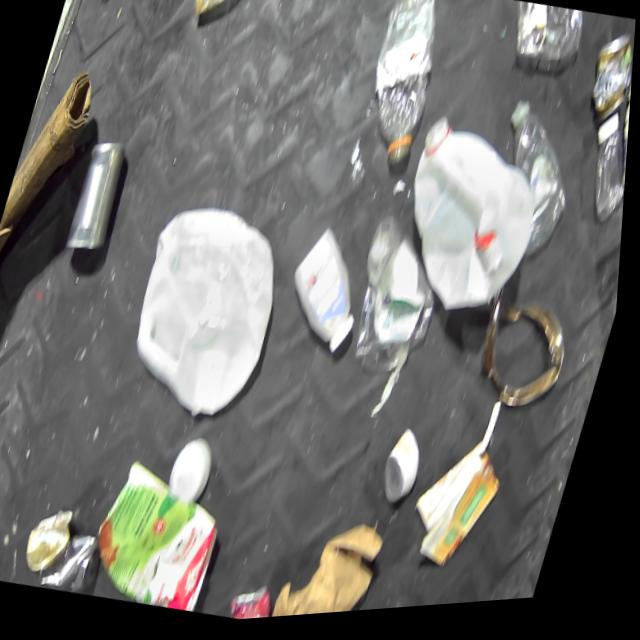can: (62, 137, 137, 260), (578, 30, 636, 140), (41, 523, 117, 601), (379, 427, 438, 516), (233, 577, 294, 624)
milk_jug: (111, 192, 305, 438), (378, 110, 566, 340)
plastic_bottle: (471, 98, 596, 272), (344, 0, 460, 184)
